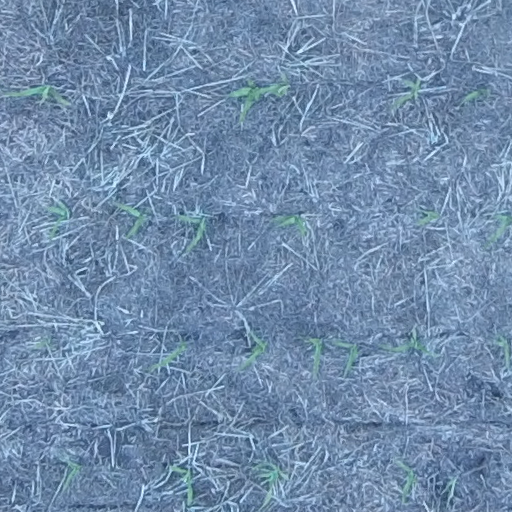planta: (228, 73, 289, 123), (251, 460, 289, 509), (379, 330, 436, 356), (2, 84, 69, 106), (146, 339, 186, 371), (168, 463, 196, 507), (115, 202, 148, 238), (176, 213, 206, 251), (238, 332, 267, 369), (45, 201, 70, 239), (390, 78, 420, 108), (396, 460, 417, 502), (302, 335, 324, 375), (332, 338, 359, 370), (270, 214, 307, 236), (62, 459, 81, 488), (494, 334, 510, 363), (461, 87, 489, 102), (416, 209, 439, 225), (35, 337, 52, 348)
